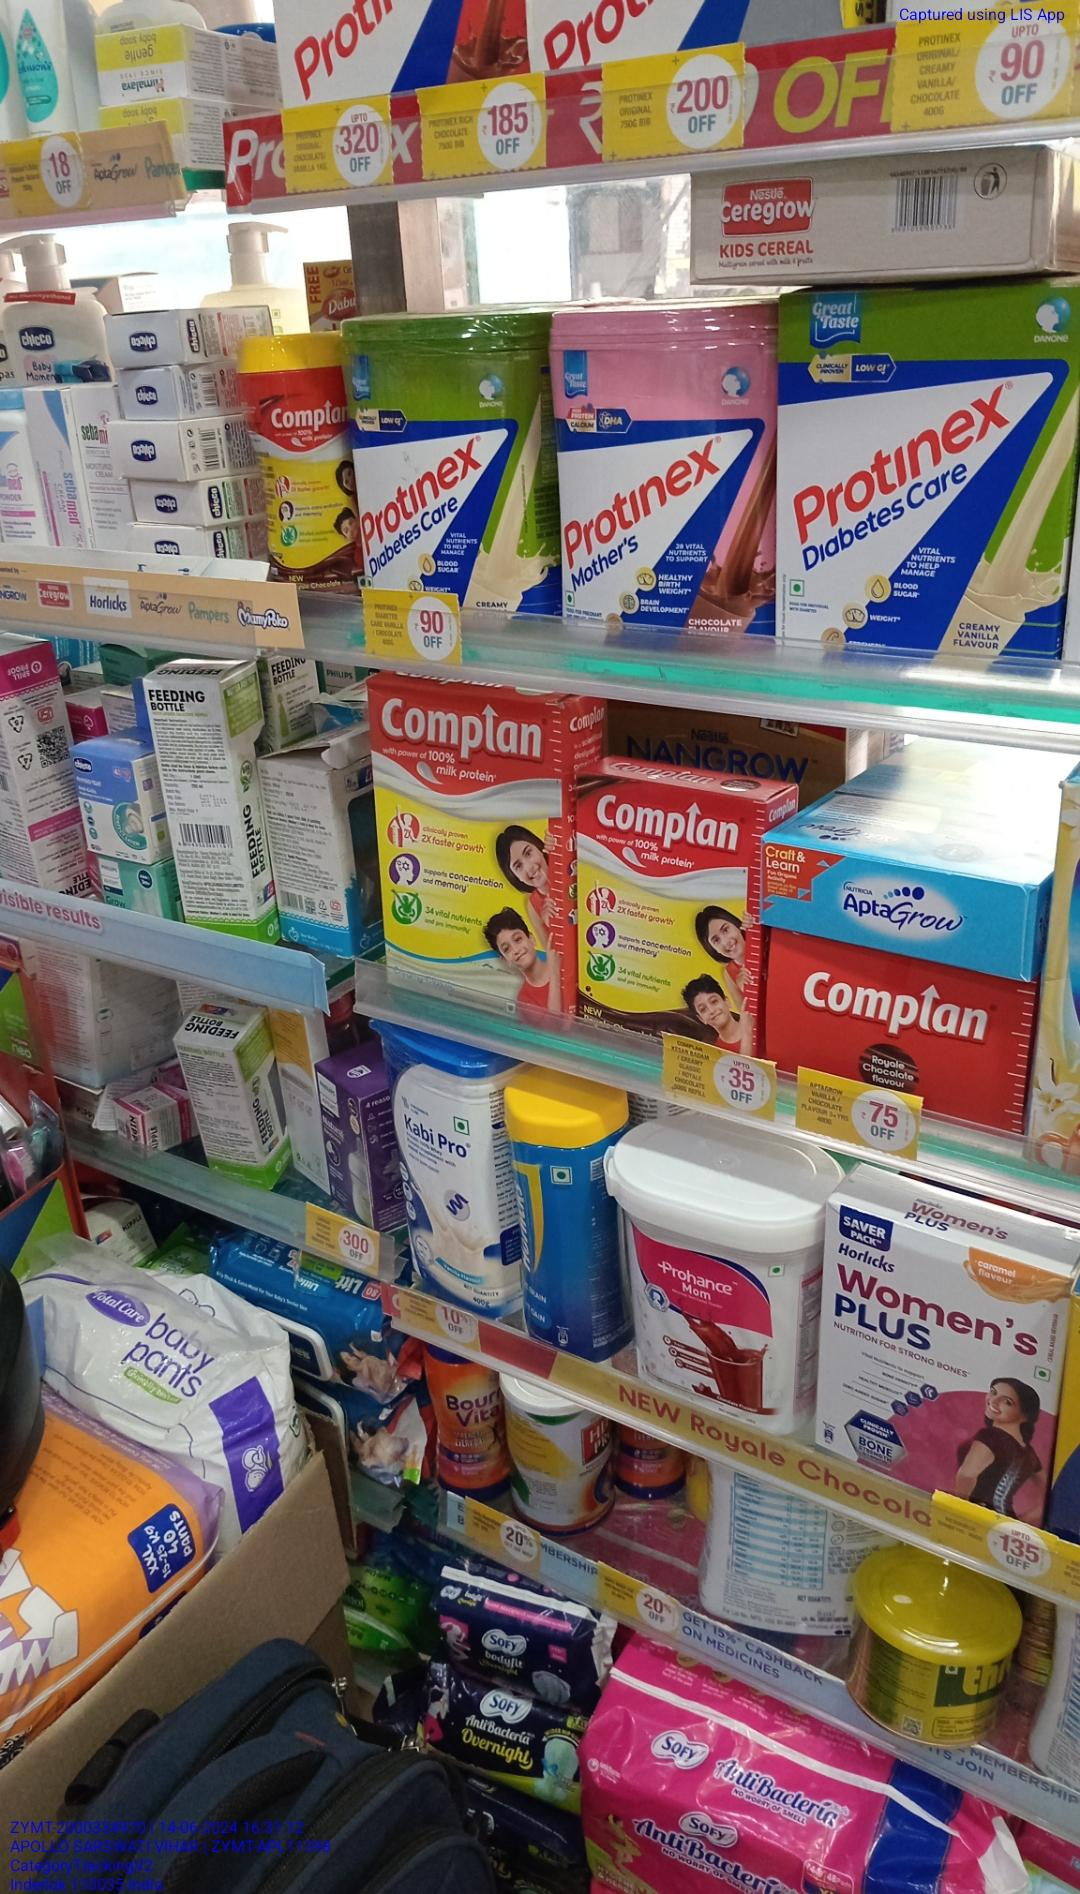COMPLAN_CHOCOLATE_500_GMS_JAR: (242, 333, 344, 574)
COMPLAN_CHOCOLATE_500_GMS_PACK: (578, 779, 753, 1042)
